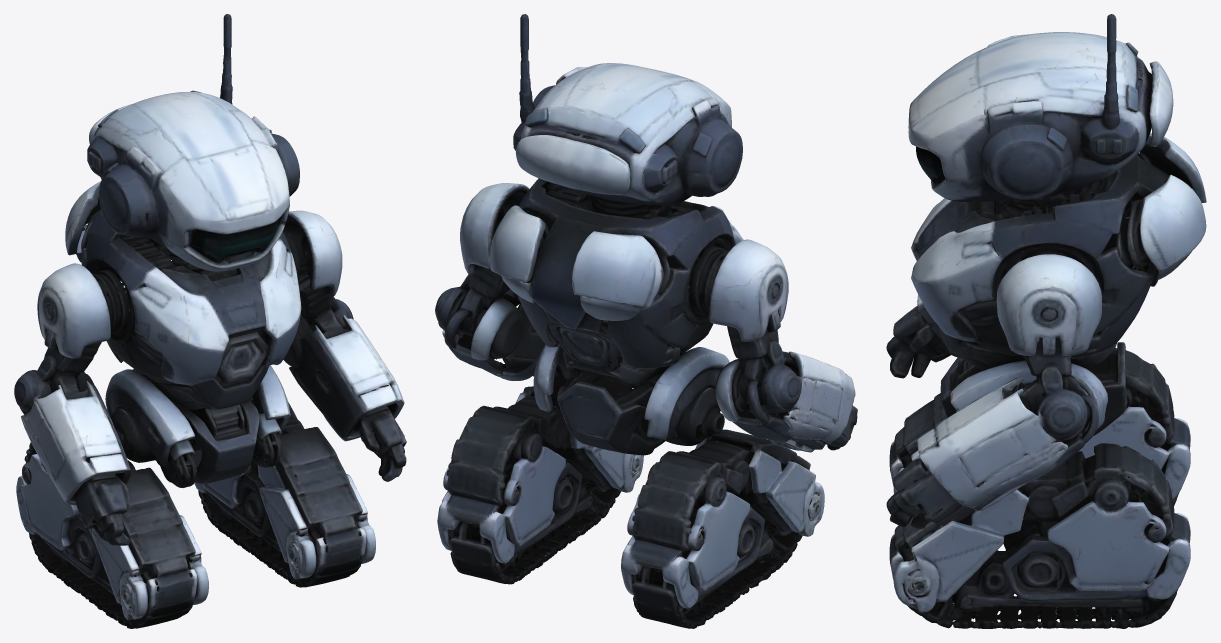
File: patrol-robot.glb
3 views of the same model, side by side, from view 1: azimuth 30°, elevation 25°; view 2: azimuth 150°, elevation 25°; view 3: azimuth 270°, elevation 25° (orthographic). The views are drawn at different scales.
Parts seen in each view (by area): view 1: world; view 2: world; view 3: world.
Boxes of the visible parts, box(x1,y1,x2,y2) form: world: box(14, 14, 406, 628); world: box(435, 14, 857, 628); world: box(886, 14, 1206, 628).
Size of the model in its own units: 0.667 by 1 by 0.4898.
Materials: 1 (1 with a texture image).
